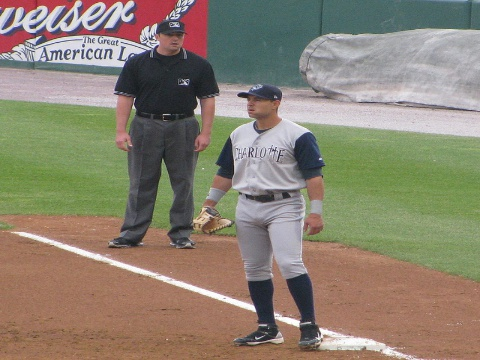hand: (302, 214, 324, 237)
